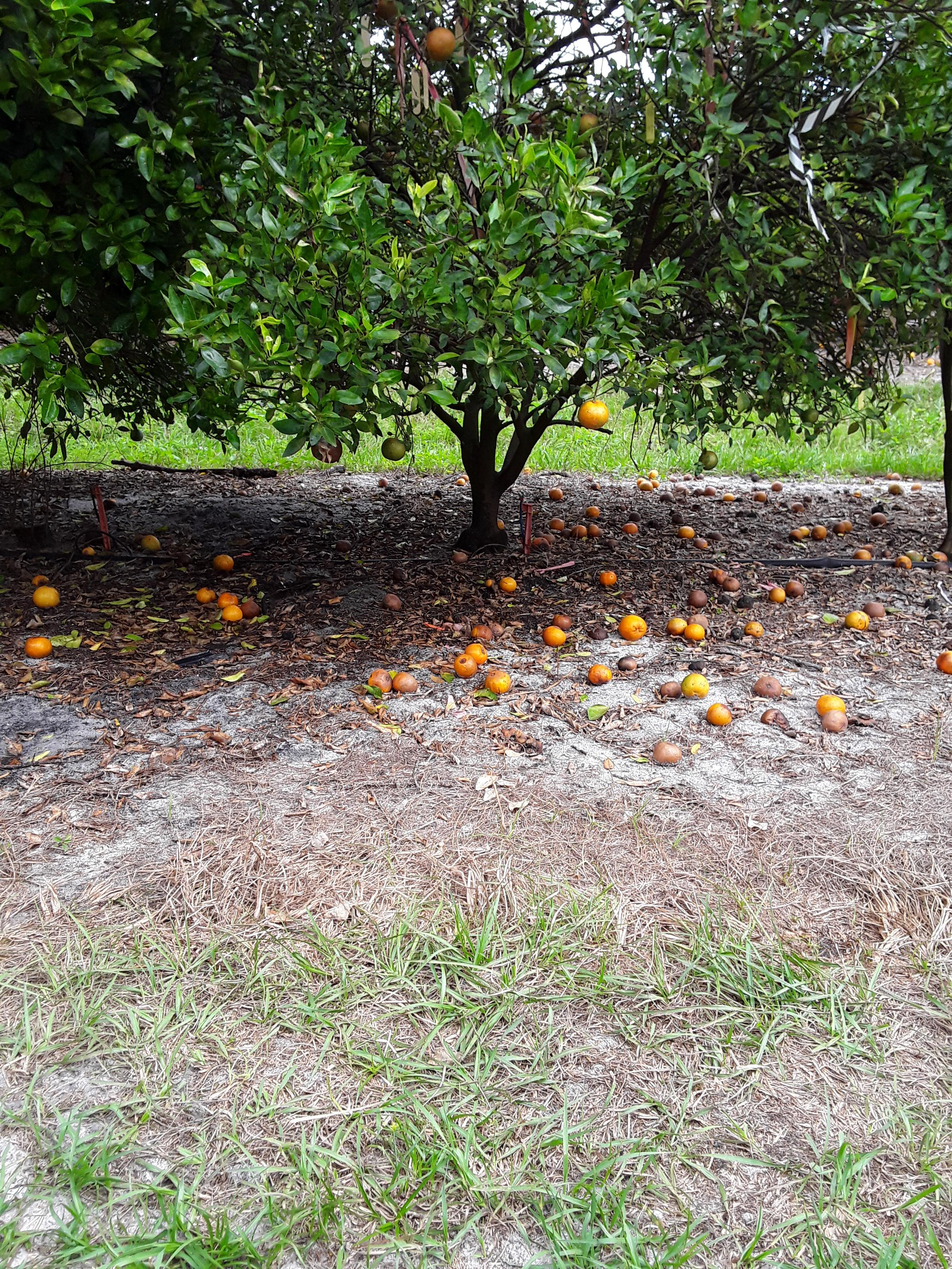fruit_on_ground: (422, 27, 463, 59), (580, 398, 610, 430), (312, 435, 343, 465), (520, 109, 552, 136), (461, 220, 491, 244), (379, 438, 408, 461), (354, 118, 376, 143), (335, 397, 360, 417), (581, 110, 602, 132), (698, 451, 719, 472), (850, 115, 869, 136), (376, 0, 399, 17), (128, 428, 145, 442)
fruit_on_tree: (21, 634, 56, 660), (760, 707, 793, 731), (619, 614, 648, 641), (654, 740, 682, 767), (366, 666, 392, 695), (681, 673, 709, 699), (816, 694, 846, 718), (752, 676, 783, 699), (483, 669, 511, 694), (30, 586, 63, 607), (392, 673, 422, 695), (454, 650, 478, 676), (208, 551, 236, 573), (707, 702, 732, 726), (540, 624, 566, 647), (822, 711, 849, 732), (469, 622, 497, 642), (465, 643, 489, 666), (844, 610, 870, 631), (388, 565, 411, 586), (239, 597, 262, 618), (139, 533, 162, 553), (194, 586, 217, 606), (381, 591, 405, 610), (665, 617, 689, 636), (682, 624, 706, 643), (862, 601, 887, 619), (784, 580, 806, 600), (588, 665, 610, 685), (936, 650, 952, 677), (686, 614, 710, 631), (77, 544, 102, 560), (218, 589, 238, 609), (744, 621, 765, 640), (685, 590, 708, 607), (616, 655, 639, 672), (30, 572, 56, 587), (705, 568, 729, 584), (225, 604, 243, 625), (720, 576, 741, 593), (661, 682, 682, 699), (809, 523, 829, 540), (599, 570, 619, 587), (449, 551, 473, 565), (868, 512, 888, 528), (553, 614, 573, 630), (537, 529, 555, 546), (500, 577, 519, 593), (852, 550, 873, 564), (768, 587, 786, 603), (923, 598, 941, 614), (590, 626, 608, 642), (893, 554, 912, 569), (584, 525, 604, 539), (548, 487, 566, 502), (532, 538, 550, 553), (677, 526, 696, 540), (686, 659, 706, 672), (484, 578, 500, 594), (575, 523, 590, 540), (906, 550, 923, 565), (715, 593, 732, 608), (548, 518, 566, 532), (335, 539, 354, 551), (931, 551, 947, 565), (102, 496, 119, 509), (586, 507, 603, 520), (562, 526, 576, 541), (831, 522, 847, 535), (931, 562, 949, 573), (649, 514, 663, 528), (789, 527, 803, 541), (694, 537, 709, 550), (887, 484, 903, 496), (624, 522, 640, 534), (736, 596, 752, 608), (637, 482, 654, 493), (375, 475, 388, 489), (840, 519, 854, 532), (753, 491, 768, 503), (706, 531, 724, 541), (626, 510, 640, 522), (494, 518, 508, 530), (798, 525, 810, 539), (730, 629, 744, 641), (673, 482, 689, 492), (791, 501, 805, 512), (661, 492, 676, 502), (650, 479, 662, 491), (770, 481, 783, 492), (851, 490, 865, 500), (705, 485, 718, 495), (583, 473, 594, 484), (691, 502, 702, 513), (649, 469, 661, 479), (634, 479, 649, 487), (19, 469, 31, 479), (720, 494, 737, 501), (520, 467, 533, 476), (673, 513, 684, 523), (909, 484, 922, 492), (862, 544, 873, 553), (455, 479, 467, 487), (693, 487, 704, 495), (879, 551, 891, 558), (458, 474, 468, 482), (592, 482, 602, 490), (684, 474, 695, 481), (802, 495, 813, 502), (908, 350, 916, 359), (924, 359, 936, 365), (669, 476, 677, 483), (752, 474, 758, 483), (891, 474, 900, 479), (885, 473, 893, 478), (697, 474, 702, 480)
